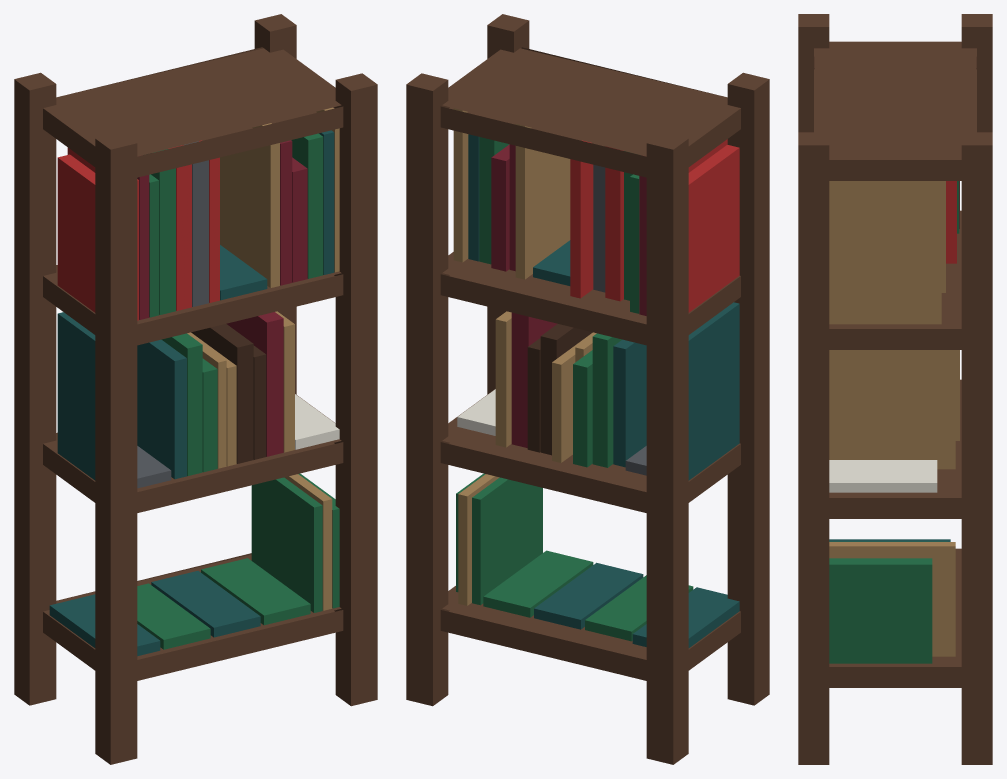
File: bookcaseOpen.glb
The picture shows the model from 3 angles, left to right: view 1: azimuth 30°, elevation 25°; view 2: azimuth 150°, elevation 25°; view 3: azimuth 270°, elevation 25°; orthographic projection.
Parts seen in each view (by area): view 1: bookcaseOpen(Clone); view 2: bookcaseOpen(Clone); view 3: bookcaseOpen(Clone).
Boxes of the visible parts, left/top/right/bottom form: bookcaseOpen(Clone): left=14, top=14, right=377, bottom=764; bookcaseOpen(Clone): left=406, top=14, right=769, bottom=764; bookcaseOpen(Clone): left=798, top=14, right=992, bottom=764.
Size of the model in its own units: 0.4 by 0.88 by 0.25.
